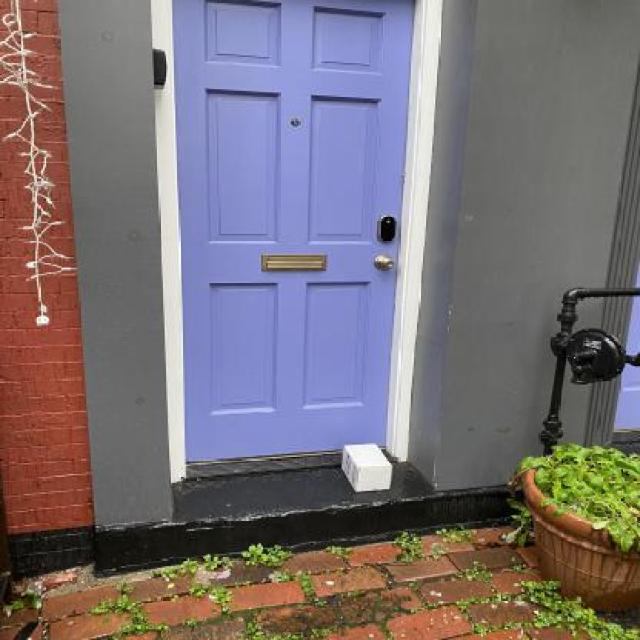cardboxes: (335, 441, 397, 494)
